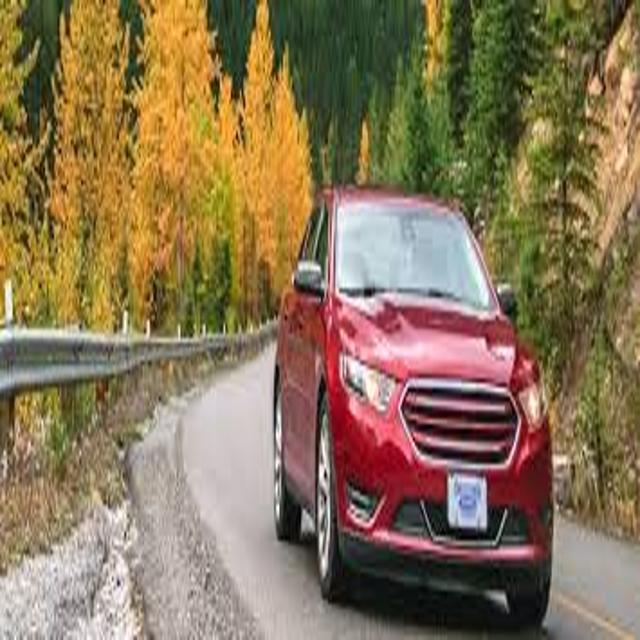car: (272, 187, 552, 621)
